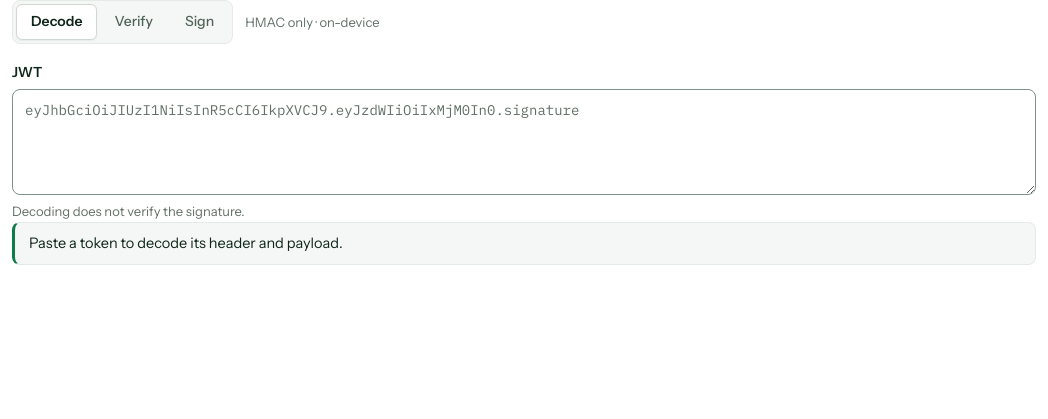
Test: JwtTool › verifies a known token + secret as valid (HS256)
Click the tab "Verify".
click(134, 22)  # box x1=100 y1=4 x2=168 y2=40
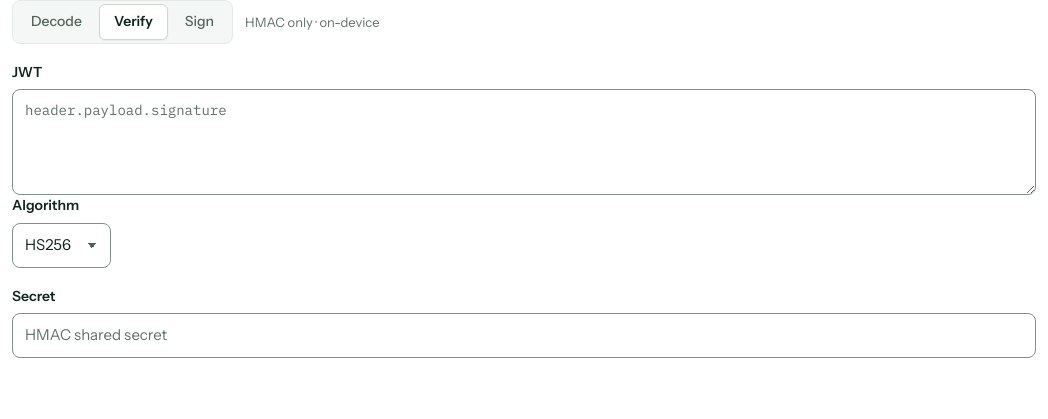
Type "eyJhbGciOiJIUzI1NiIsInR5cCI6IkpXVCJ9.eyJzdWIiOiIxMjM0NTY3ODkwIiwibmFtZSI6IkphbmUgRG9lIiwiaWF0IjoxNTE2MjM5MDIyfQ.vdiPMXjRf8orAkByHfNK6pcpsJJ-EDy62ihzOV2Cre4" into the text box with placeholder "header.payload.signature".
click(524, 142); type("eyJhbGciOiJIUzI1NiIsInR5cCI6IkpXVCJ9.eyJzdWIiOiIxMjM0NTY3ODkwIiwibmFtZSI6IkphbmUgRG9lIiwiaWF0IjoxNTE2MjM5MDIyfQ.vdiPMXjRf8orAkByHfNK6pcpsJJ-EDy62ihzOV2Cre4")  # box x1=12 y1=89 x2=1036 y2=195
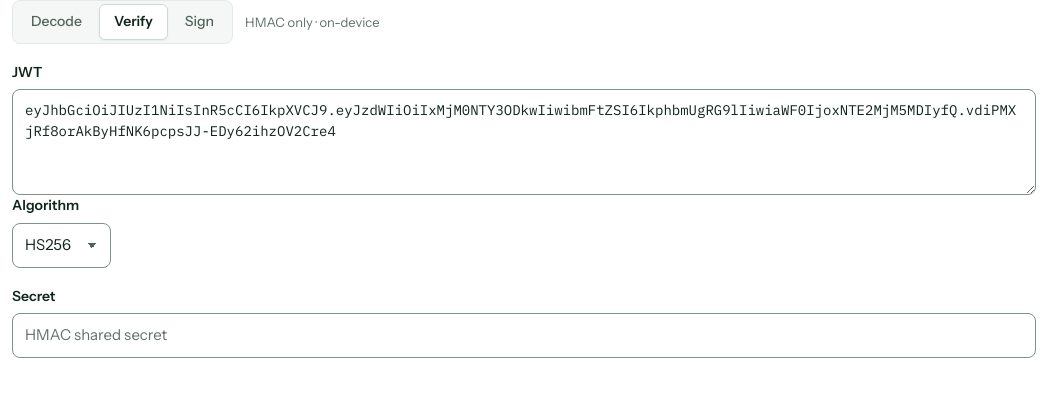
Type "my-secret" into the password field with placeholder "HMAC shared secret".
click(524, 336); type("my-secret")  # box x1=12 y1=313 x2=1036 y2=358
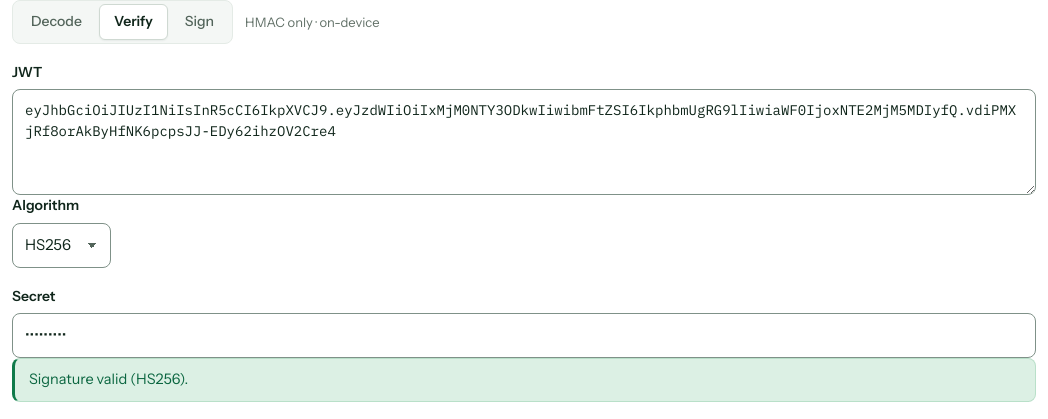
expect the text "Signature valid (HS256)." is shown: met, box x1=12 y1=358 x2=1036 y2=402
